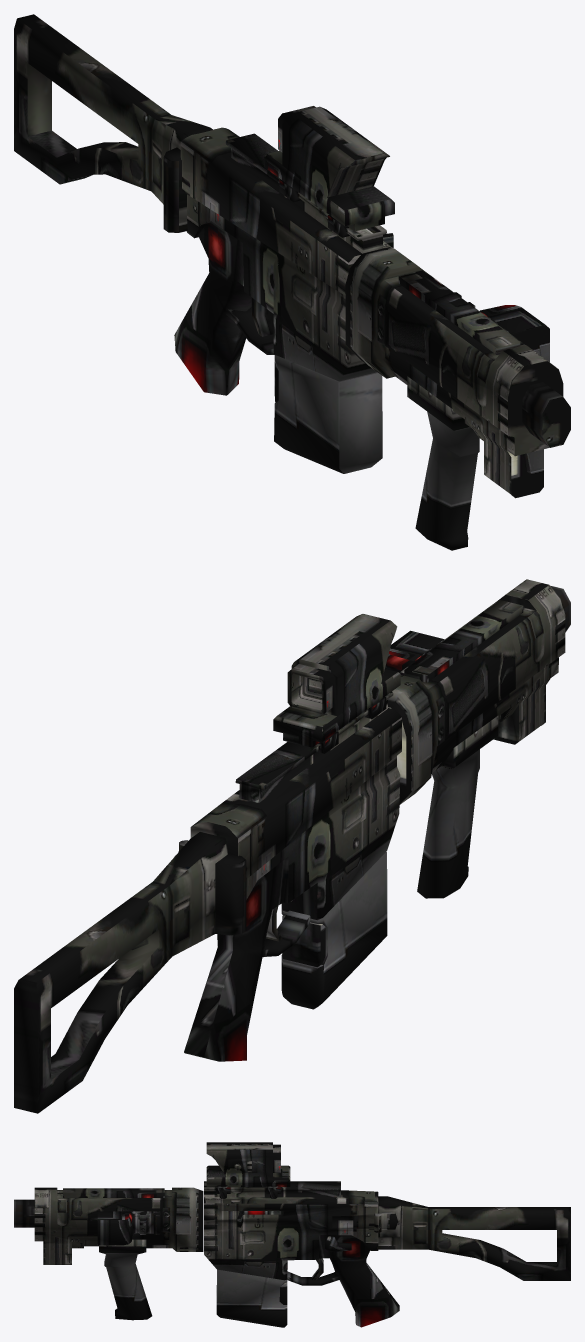
The picture shows the model from 3 angles, top to bottom: view 1: azimuth 30°, elevation 25°; view 2: azimuth 150°, elevation 25°; view 3: azimuth 270°, elevation 25°; orthographic projection. The views are drawn at different scales.
Visible parts, largest first — view 1: Box05, Box01, __lithtech_lh_to_gltf_rh__; view 2: Box05, Box01, __lithtech_lh_to_gltf_rh__; view 3: Box01, Box05, __lithtech_lh_to_gltf_rh__.
Boxes of the visible parts, x1,y1,x2,y2 form: Box05: [14, 14, 394, 473]; Box01: [174, 127, 562, 498]; __lithtech_lh_to_gltf_rh__: [345, 248, 570, 550]; Box05: [14, 614, 400, 1113]; Box01: [174, 586, 570, 1061]; __lithtech_lh_to_gltf_rh__: [385, 579, 565, 898]; Box01: [14, 1181, 399, 1327]; Box05: [206, 1142, 570, 1327]; __lithtech_lh_to_gltf_rh__: [34, 1187, 203, 1320].
Size of the model in its own units: 4.19 by 12.67 by 35.79.
1 material, 1 textured.
